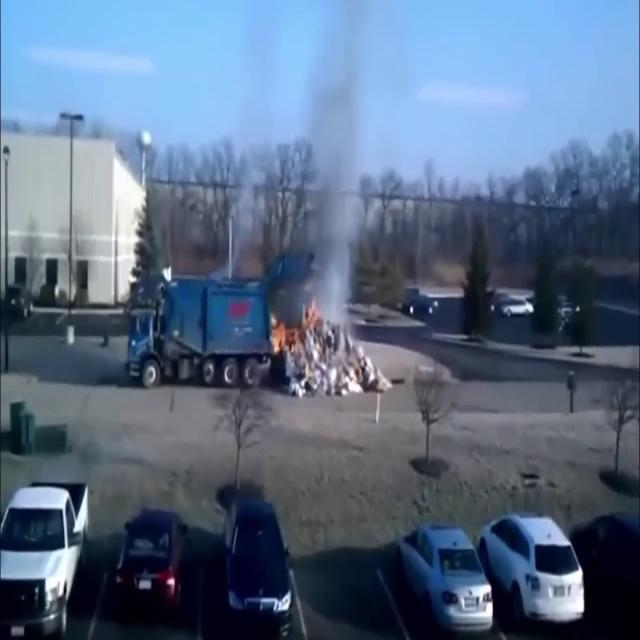Smoke: (265, 12, 384, 318)
